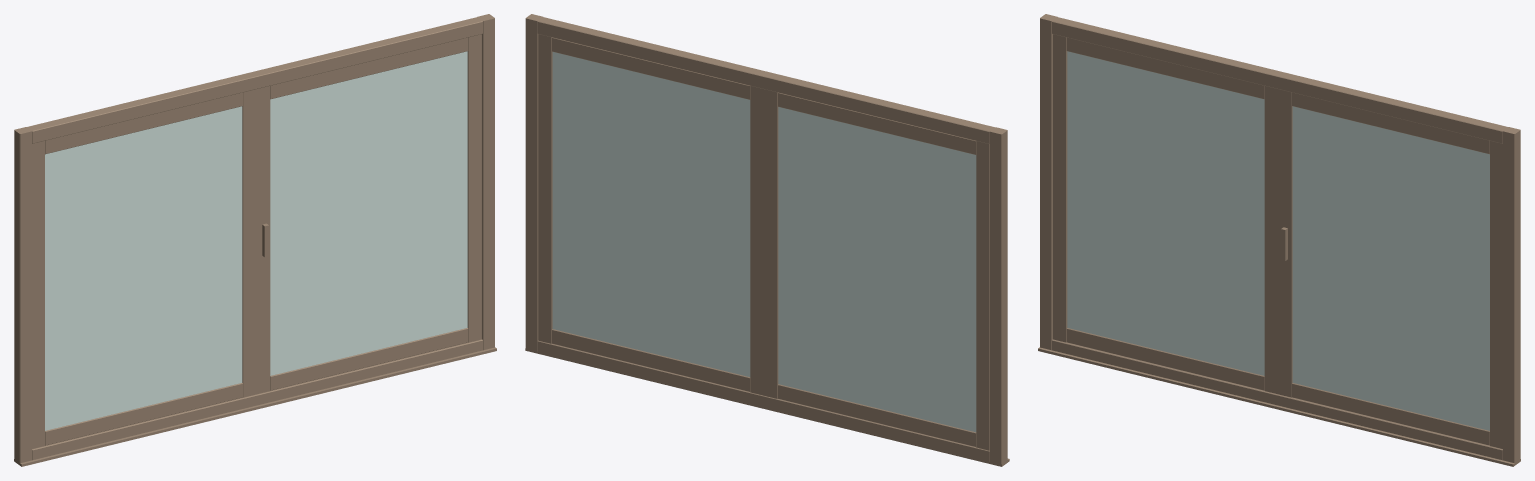
Rendered from bt-S53RP-2-ferme-quartz-1019.glb.
3 views of the same model, side by side, from view 1: azimuth 30°, elevation 25°; view 2: azimuth 150°, elevation 25°; view 3: azimuth 330°, elevation 25° (orthographic).
Parts seen in each view (by area): view 1: verre, structure; view 2: verre, structure; view 3: verre, structure.
Boxes of the visible parts, x1,y1,x2,y2 form: verre: (45,51,467,430); structure: (14,14,496,466); verre: (552,52,976,432); structure: (525,14,1009,466); verre: (1067,51,1489,430); structure: (1038,14,1520,466).
Bounding box in the file's own units: 2.4 × 1.6 × 0.0674.
